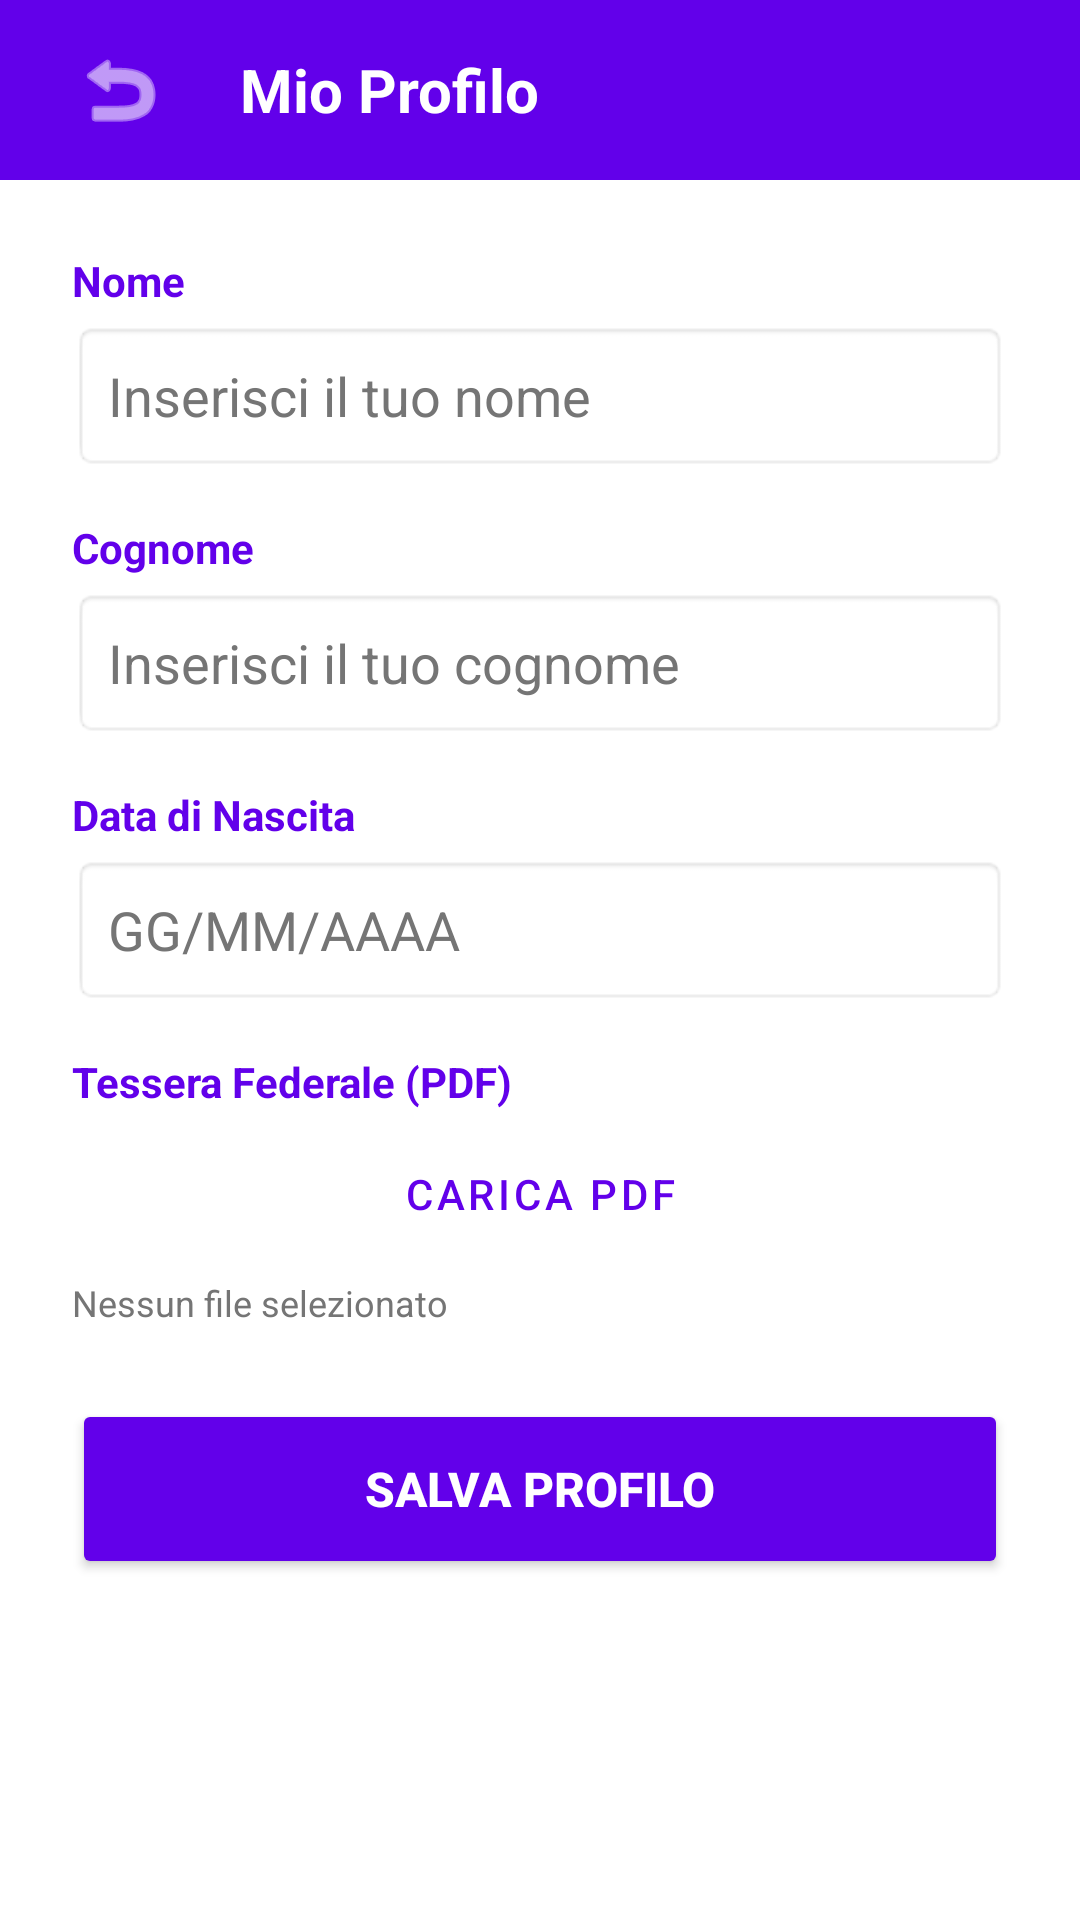

Icon click points for this 1080w x 1920h phone screenshot, format point (x, y):
Torna indietro: point (121, 90)
